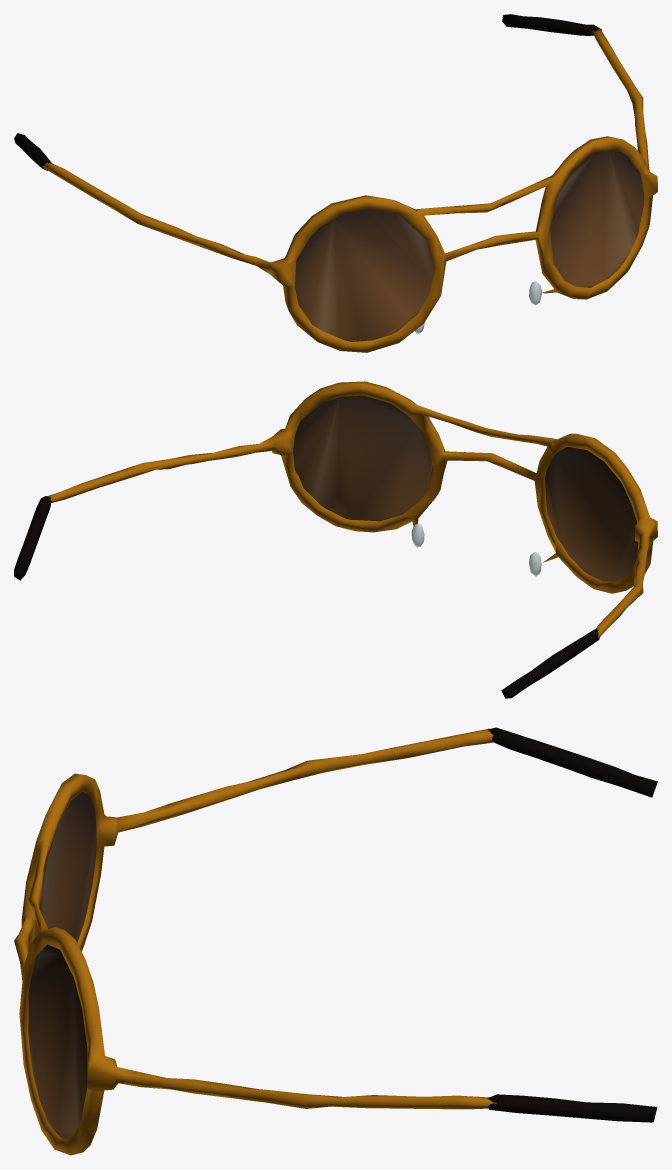
The model's file is kinhram.glb.
3 renders of one model, top to bottom at view 1: azimuth 30°, elevation 25°; view 2: azimuth 150°, elevation 25°; view 3: azimuth 270°, elevation 25°, orthographic. The views are drawn at different scales.
Parts seen in each view (by area): view 1: Trong_Kinh, Gong_Kinh, Duoi_Cang; view 2: Trong_Kinh, Gong_Kinh, Duoi_Cang, Dem_Mui; view 3: Gong_Kinh, Trong_Kinh, Duoi_Cang.
Boxes of the visible parts, x1=… form: Trong_Kinh: x1=295, y1=149, x2=643, y2=341; Gong_Kinh: x1=42, y1=27, x2=657, y2=352; Duoi_Cang: x1=14, y1=14, x2=601, y2=170; Trong_Kinh: x1=293, y1=395, x2=638, y2=581; Gong_Kinh: x1=41, y1=381, x2=657, y2=638; Duoi_Cang: x1=14, y1=496, x2=599, y2=698; Dem_Mui: x1=411, y1=523, x2=541, y2=576; Gong_Kinh: x1=14, y1=728, x2=496, y2=1155; Trong_Kinh: x1=28, y1=791, x2=96, y2=1140; Duoi_Cang: x1=488, y1=727, x2=657, y2=1122.
Bounding box in the file's own units: 0.2594 × 0.0671 × 0.1887.
